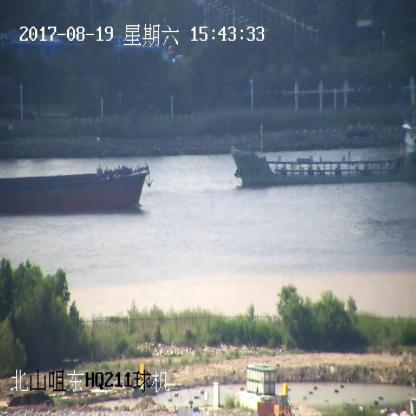Bulk Carrier: (231, 126, 416, 186), (4, 165, 148, 216)
